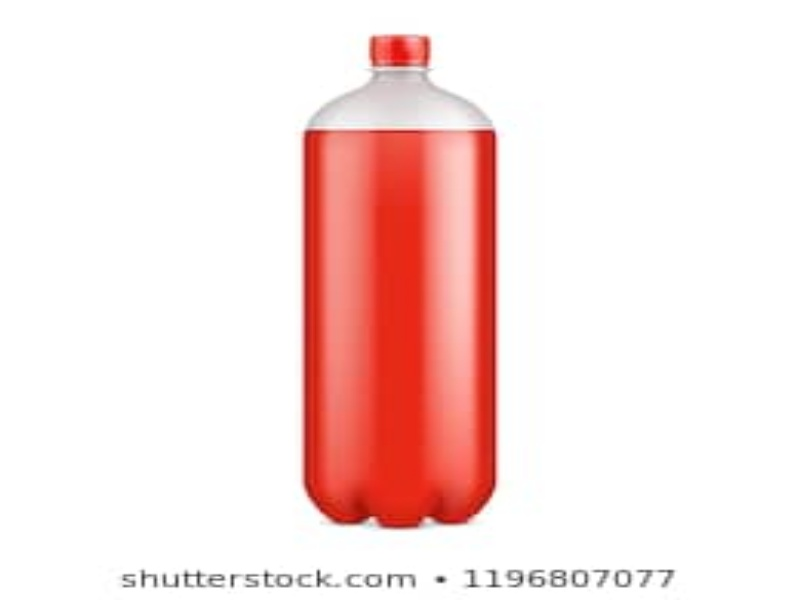bottle-cap: (366, 33, 436, 68)
plastic-bottle: (297, 31, 502, 538)
